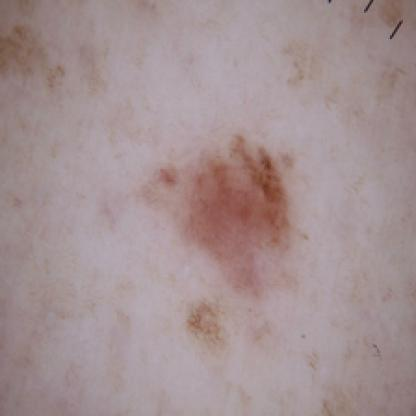benign: (145, 132, 323, 321)
